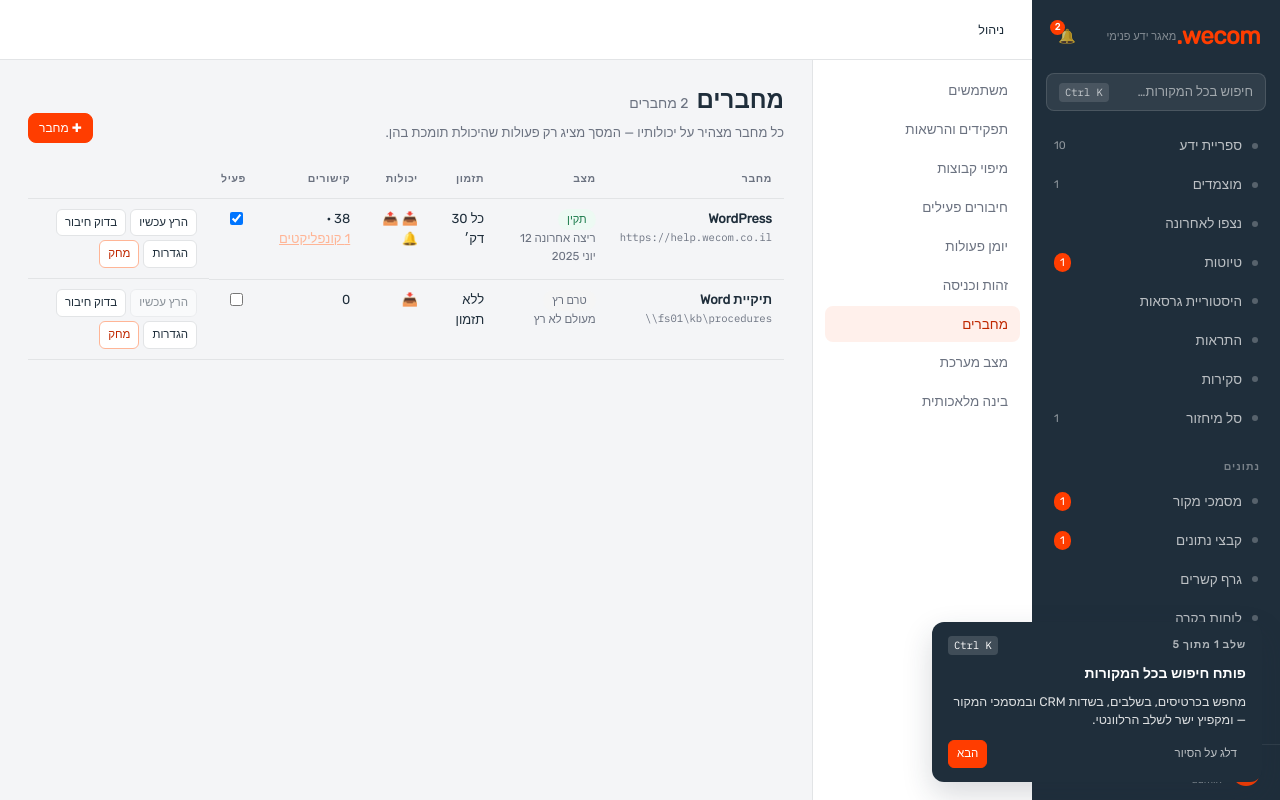
Test: admin · connector registry › runs a connector and reports what the run actually did
Step 1. Click the button "הרץ עכשיו" in the row of "WordPress" → click(164, 222), box x1=130 y1=209 x2=197 y2=236
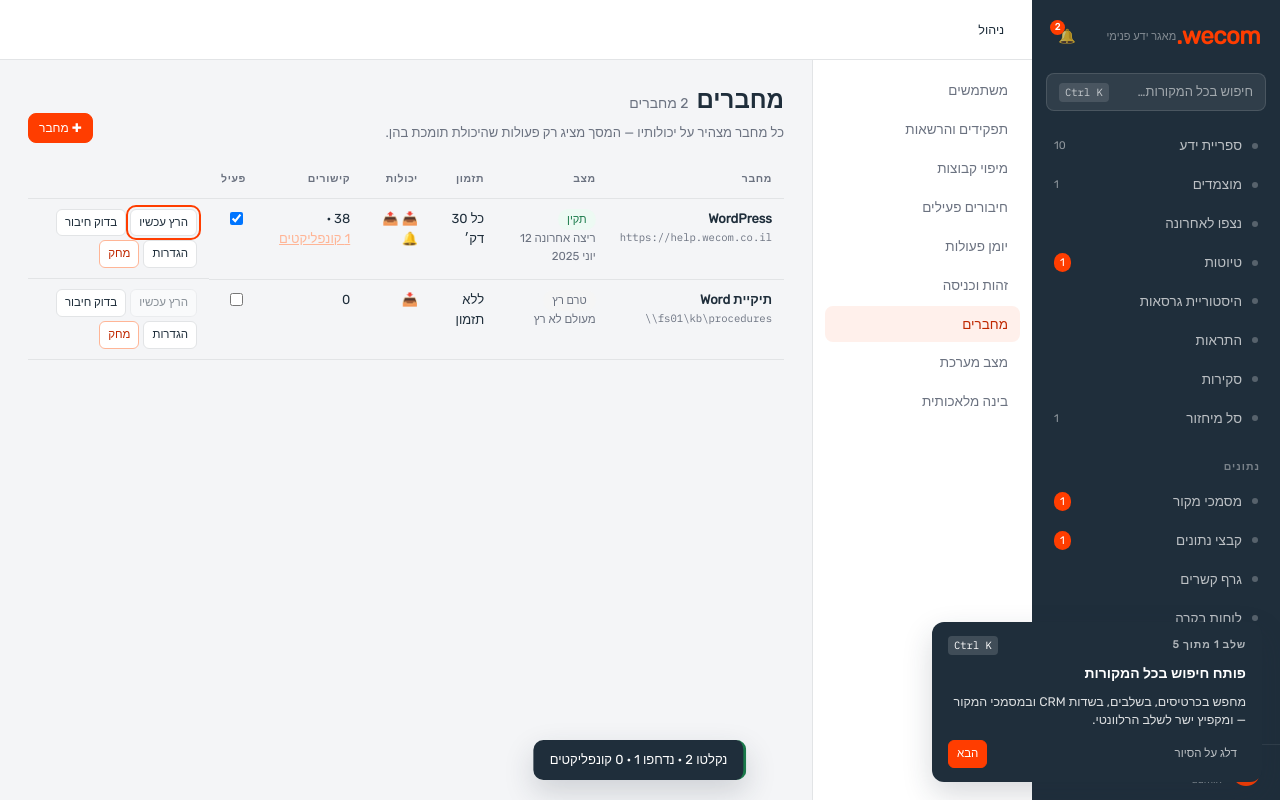
Result: the text "נקלטו 2 · נדחפו 1 · 0 קונפליקטים" is shown at x1=550 y1=750 x2=727 y2=770
